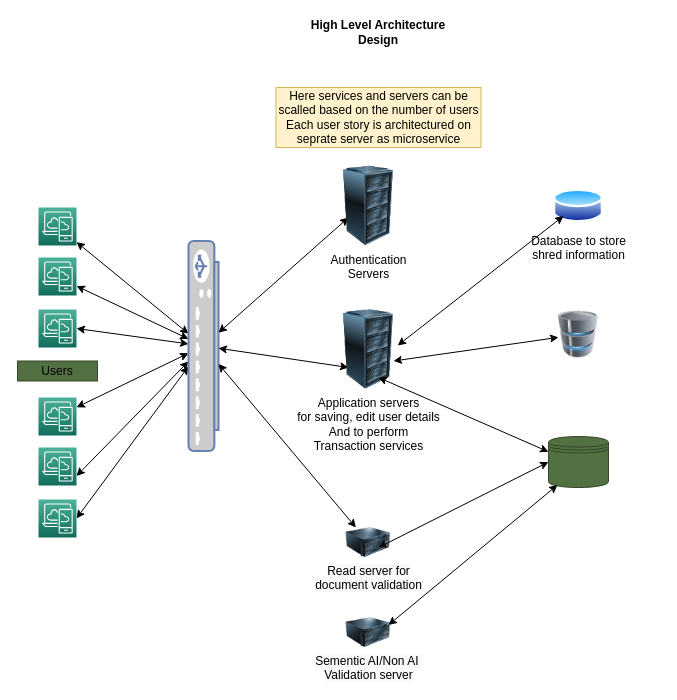
Some shapes in this 677 by 700 pixel diagram are drawn without their labels. Each missing label, with the box of its shape:
Document Store: (548, 436, 608, 488)
Multi site Load balancer: (187, 240, 219, 452)
Shredded Relational Database to store User Details: (558, 309, 598, 359)
